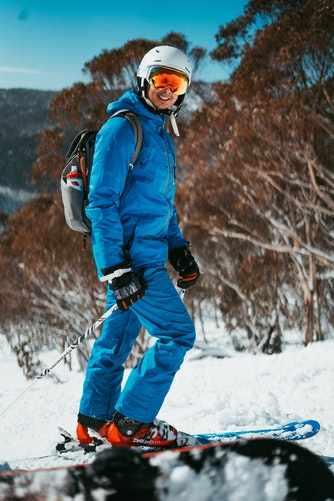helmet: (131, 46, 203, 97)
